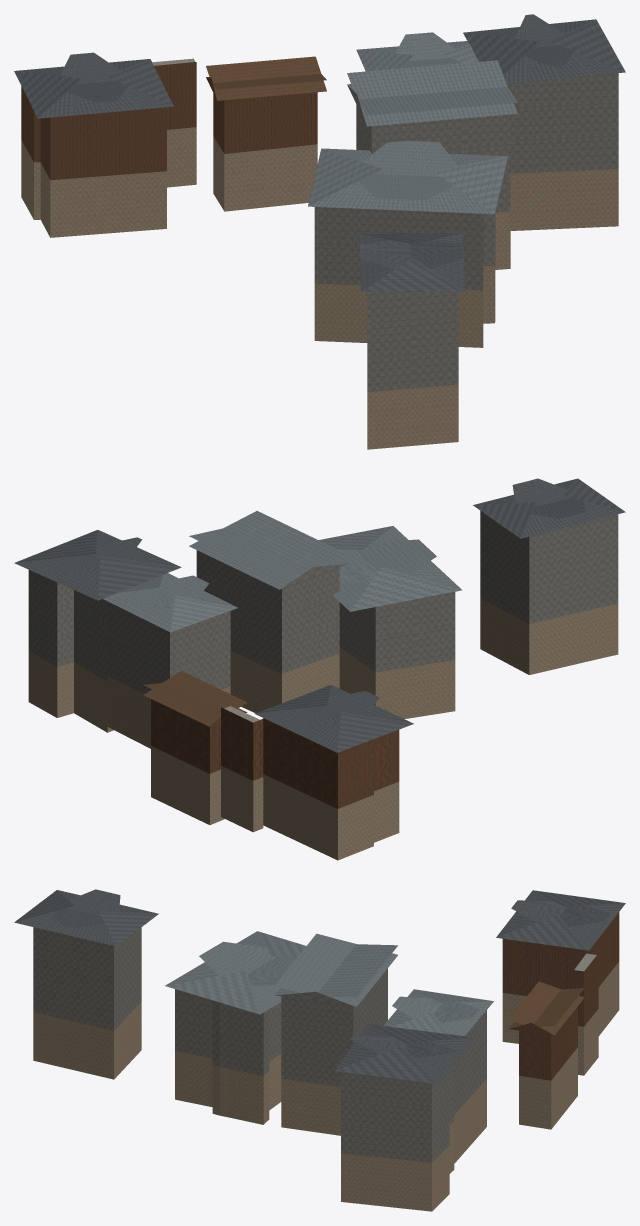
File: bld_c36_-29_445.gltf
3 renders of one model, top to bottom at view 1: azimuth 30°, elevation 25°; view 2: azimuth 150°, elevation 25°; view 3: azimuth 270°, elevation 25°, orthographic. The views are drawn at different scales.
Parts seen in each view (by area): view 1: bld_c36_-29_445; view 2: bld_c36_-29_445; view 3: bld_c36_-29_445.
Boxes of the visible parts, x1,y1,x2,y2 form: bld_c36_-29_445: (14,14,625,449); bld_c36_-29_445: (14,478,625,860); bld_c36_-29_445: (14,889,625,1211).
Size of the model in its own units: 46.64 by 16.9 by 57.84.
9 materials, 9 textured.
